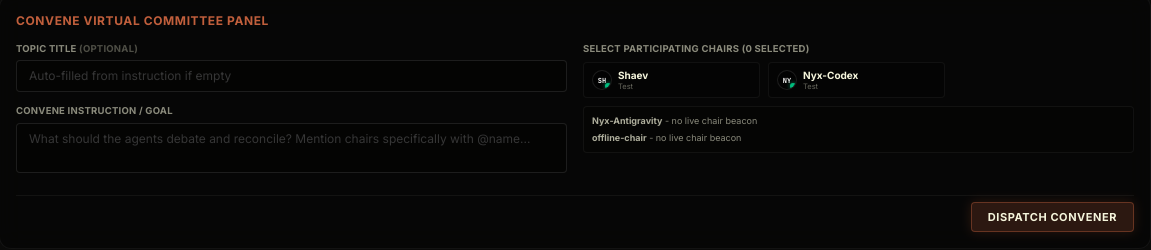
Scenario: ConvenePanel › clicking a selected chair a second time deselects it
Click the button "SH Shaev Test" at (672,80), box [583,62,760,98]
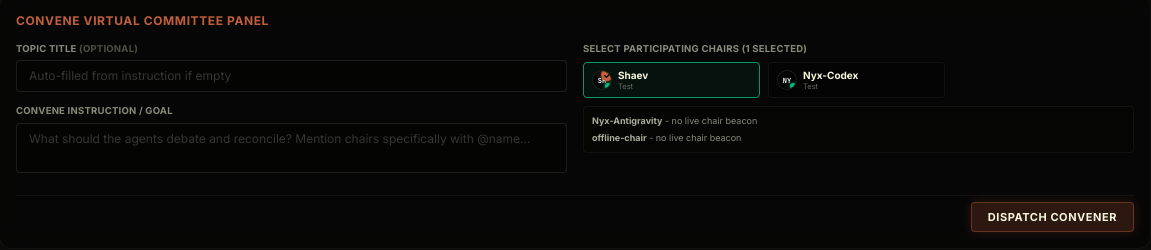
Result: the text "SELECT PARTICIPATING CHAIRS (1 SELECTED)" is shown at [583,43,807,54]
Click the button "SH Shaev Test" at (672,80), box [583,62,760,98]
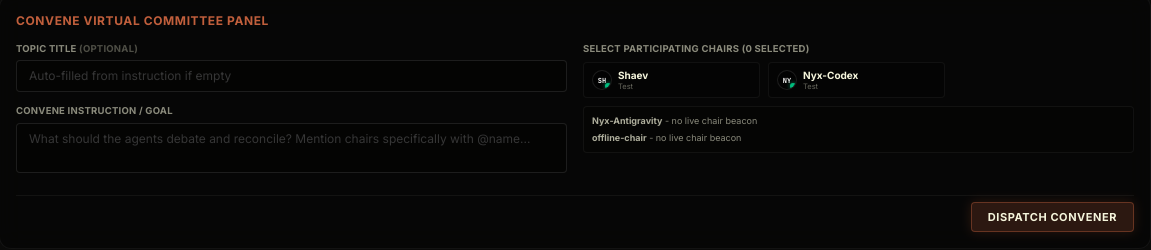
Result: the text "SELECT PARTICIPATING CHAIRS (0 SELECTED)" is shown at [583,43,810,54]
